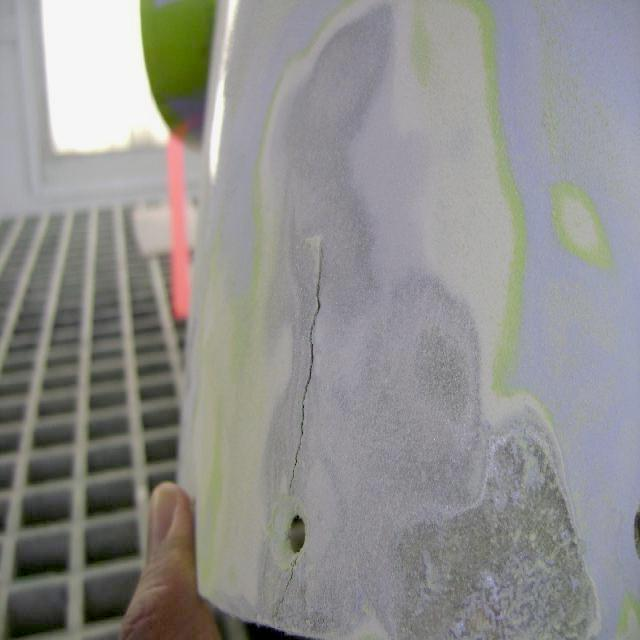Missing Fastener: (263, 488, 327, 568)
